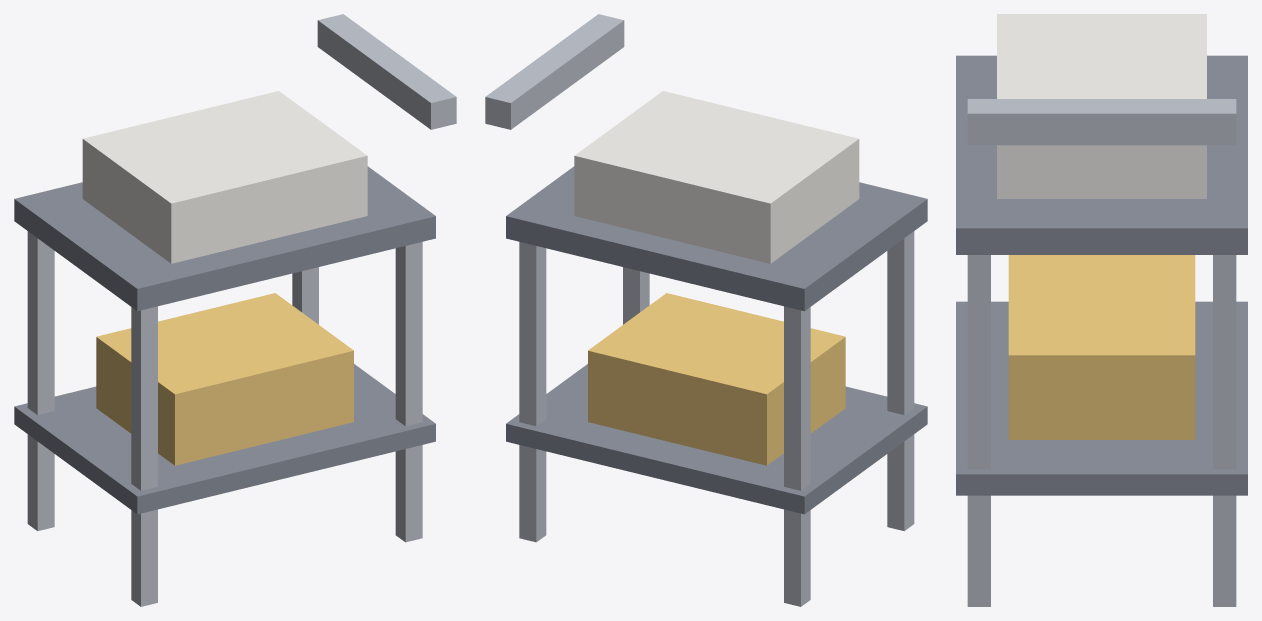
File: station_special_2.glb
3 views of the same model, side by side, from view 1: azimuth 30°, elevation 25°; view 2: azimuth 150°, elevation 25°; view 3: azimuth 270°, elevation 25° (orthographic). The views are drawn at different scales.
Visible parts, largest first — view 1: wagen_stapel, wagen_stapel_2, wagen_platte, wagen_boden, wagen_strebe.002, wagen_strebe, wagen_strebe.001, wagen_griff, wagen_strebe.003; view 2: wagen_stapel, wagen_stapel_2, wagen_platte, wagen_boden, wagen_strebe.003, wagen_strebe.001, wagen_strebe, wagen_griff, wagen_strebe.002; view 3: wagen_stapel_2, wagen_stapel, wagen_platte, wagen_boden, wagen_griff, wagen_strebe.002, wagen_strebe.003.
Part boxes in pixels (<box>): wagen_stapel: <box>82,91,367,263</box>; wagen_stapel_2: <box>96,293,353,465</box>; wagen_platte: <box>14,166,435,311</box>; wagen_boden: <box>14,364,435,514</box>; wagen_strebe.002: <box>395,242,422,542</box>; wagen_strebe: <box>131,306,157,606</box>; wagen_strebe.001: <box>27,231,54,531</box>; wagen_griff: <box>317,14,456,129</box>; wagen_strebe.003: <box>292,267,318,324</box>; wagen_stapel: <box>574,91,859,263</box>; wagen_stapel_2: <box>588,293,845,465</box>; wagen_platte: <box>506,166,927,311</box>; wagen_boden: <box>506,364,927,514</box>; wagen_strebe.003: <box>519,242,546,542</box>; wagen_strebe.001: <box>784,306,810,606</box>; wagen_strebe: <box>887,231,914,531</box>; wagen_griff: <box>485,14,624,129</box>; wagen_strebe.002: <box>623,267,649,324</box>; wagen_stapel_2: <box>1008,255,1195,439</box>; wagen_stapel: <box>997,14,1206,198</box>; wagen_platte: <box>956,55,1247,254</box>; wagen_boden: <box>956,301,1247,495</box>; wagen_griff: <box>967,99,1236,145</box>; wagen_strebe.002: <box>967,255,990,606</box>; wagen_strebe.003: <box>1213,255,1236,606</box>.
Size of the model in its own units: 0.76 by 0.97 by 0.5.
